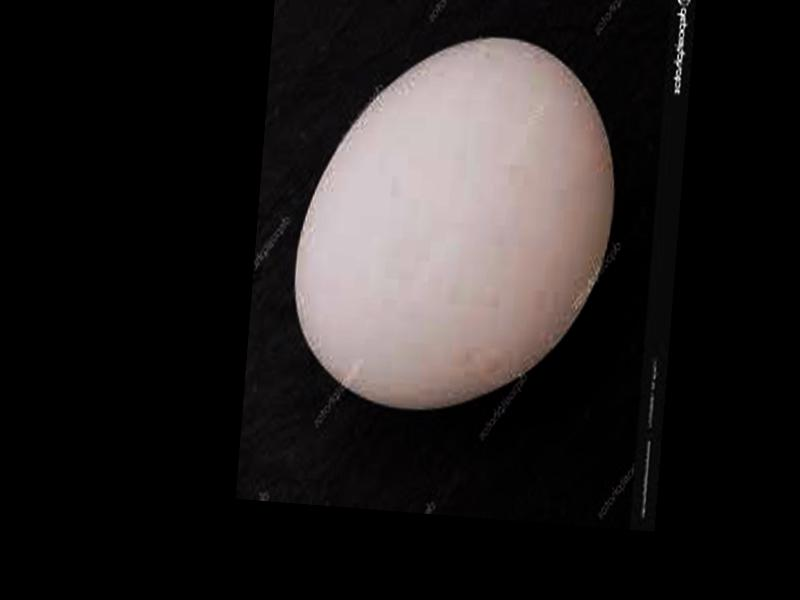Eggs: (287, 23, 627, 424)
